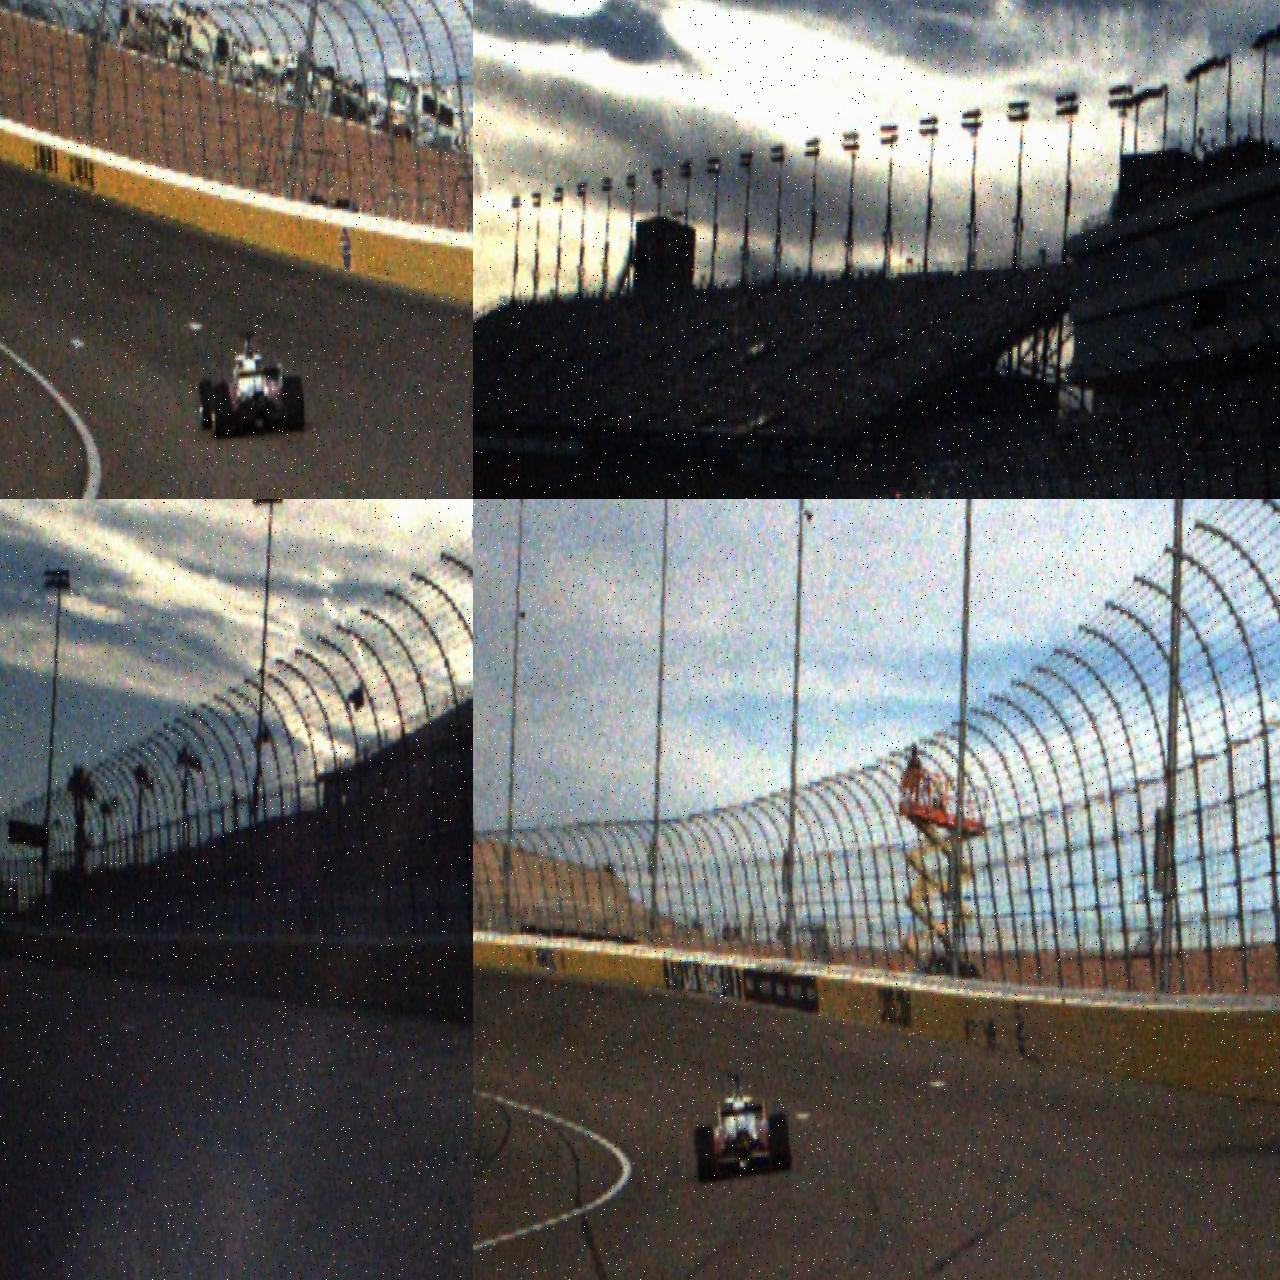AV: (196, 328, 305, 440), (693, 1070, 791, 1183)
Wheel: (768, 1112, 791, 1171), (695, 1126, 716, 1182), (210, 382, 230, 440), (285, 375, 305, 433), (198, 379, 215, 429)
